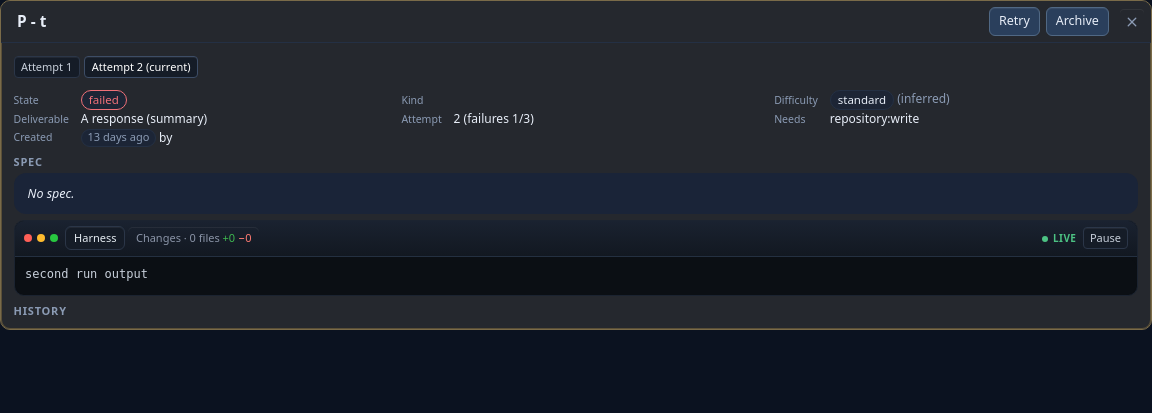
attempt strip › defaults to the current attempt and switches Live and Changes together
The image size is (1152, 413).
Expected: the text "second run output" is shown, [25,267,148,281]
What coordinates should you click on to do the following:
click the tab "Changes · 0 files +0 −0"
I would click on:
 (194, 238)
Its box is [127,226,260,250].
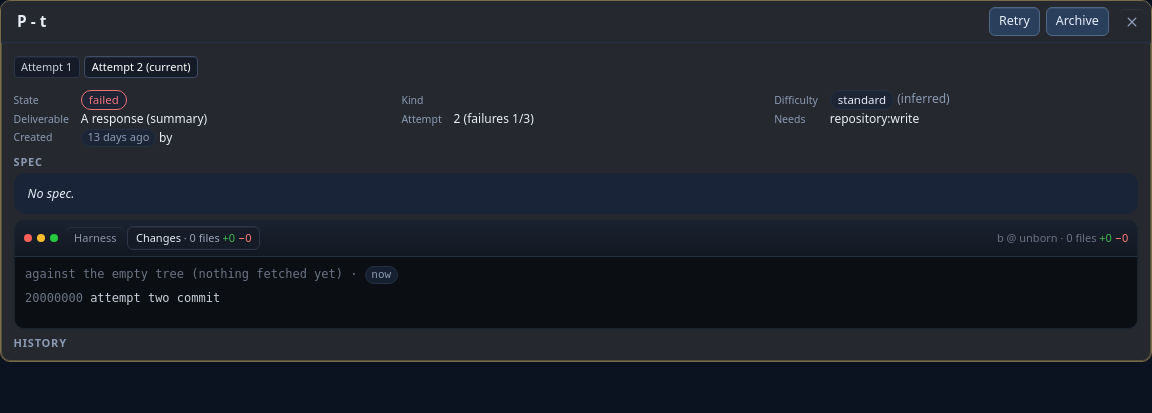
Now the list item "attempt two commit" is shown, box [90,291,220,305]
What coordinates should you click on to do the following:
click the button "Attempt 1"
I would click on:
 (47, 67)
Its box is [14,56,80,78].
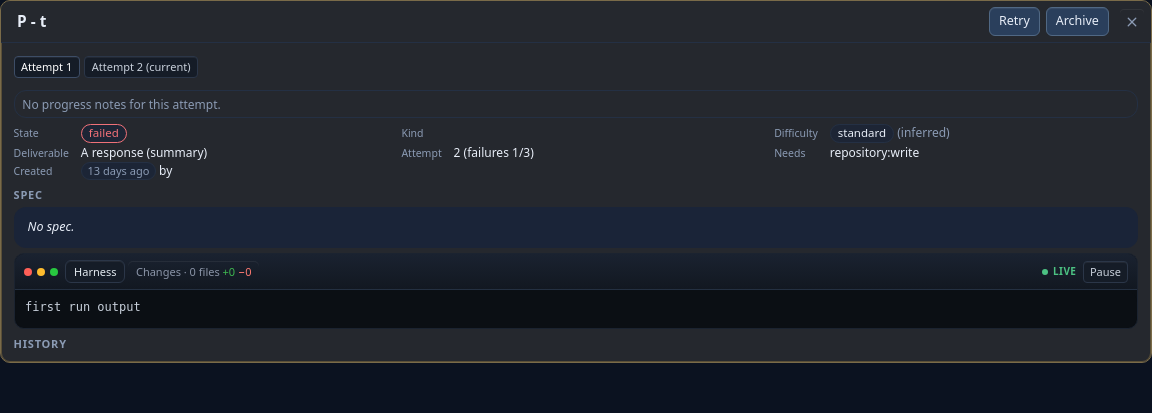
Now the text "first run output" is shown, box [25,300,141,314]
What coordinates should you click on to do the following:
click the tab "Changes · 0 files +0 −0"
I would click on:
 (194, 272)
Its box is [127,260,260,283].
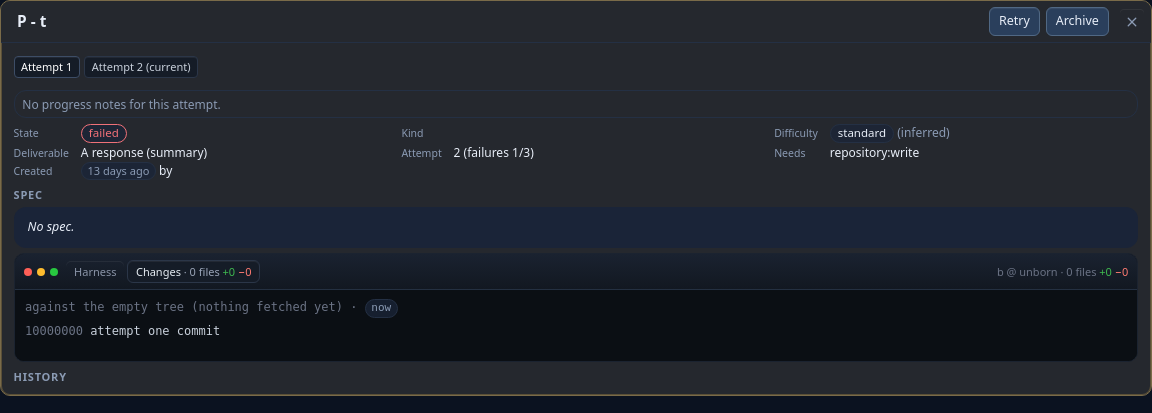
Expected: the text "second run output" is not shown
Now the list item "attempt one commit" is shown, box [90,324,220,338]
What coordinates should you click on to do the following:
click the button "Attempt 2 (current)"
I would click on:
 (141, 67)
Its box is [84,56,198,78].
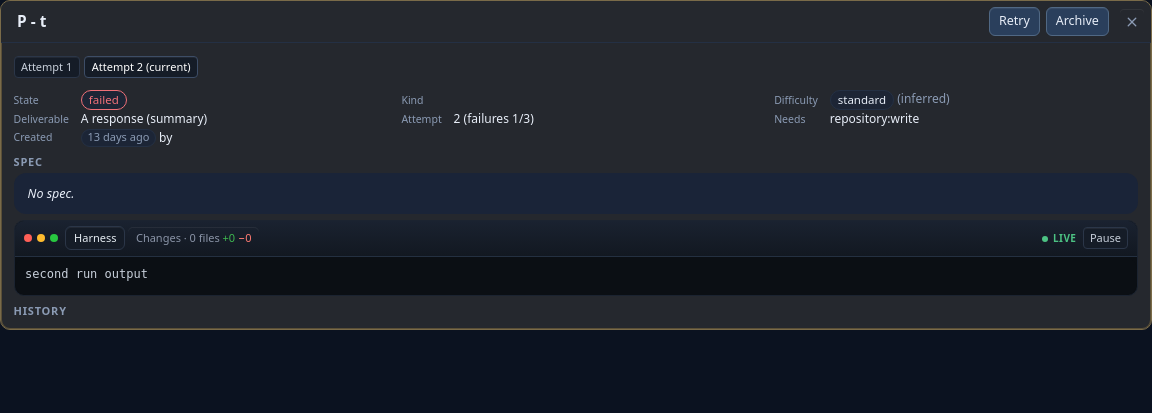
Expected: the text "first run output" is not shown
Now the text "second run output" is shown, box [25,267,148,281]
